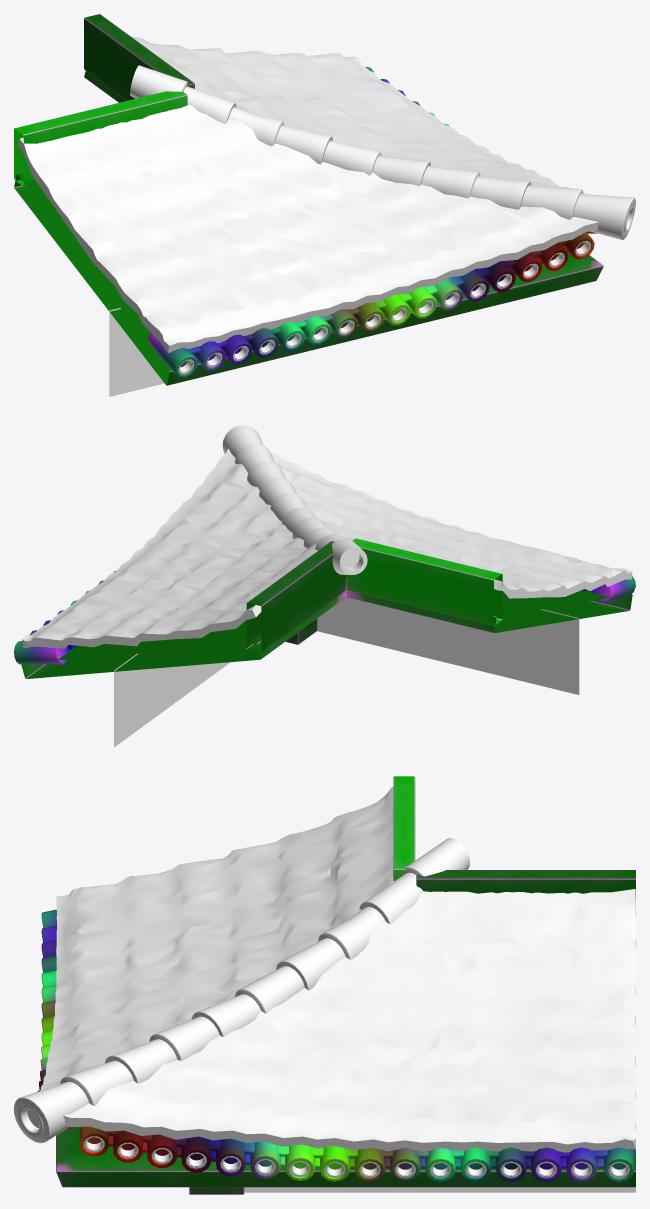
The model's file is wall_roof_fenced_200_01_corner.fbx.
3 renders of one model, top to bottom at view 1: azimuth 30°, elevation 25°; view 2: azimuth 150°, elevation 25°; view 3: azimuth 270°, elevation 25°, orthographic. The views are drawn at different scales.
Visible parts, largest first — view 1: wall_roof_fenced_200_01_corner; view 2: wall_roof_fenced_200_01_corner; view 3: wall_roof_fenced_200_01_corner.
Part boxes in pixels (<box>): wall_roof_fenced_200_01_corner: <box>14,14,635,396</box>; wall_roof_fenced_200_01_corner: <box>14,425,635,747</box>; wall_roof_fenced_200_01_corner: <box>14,776,635,1194</box>.
Bounding box in the file's own units: 2.8 × 1.23 × 2.82.
